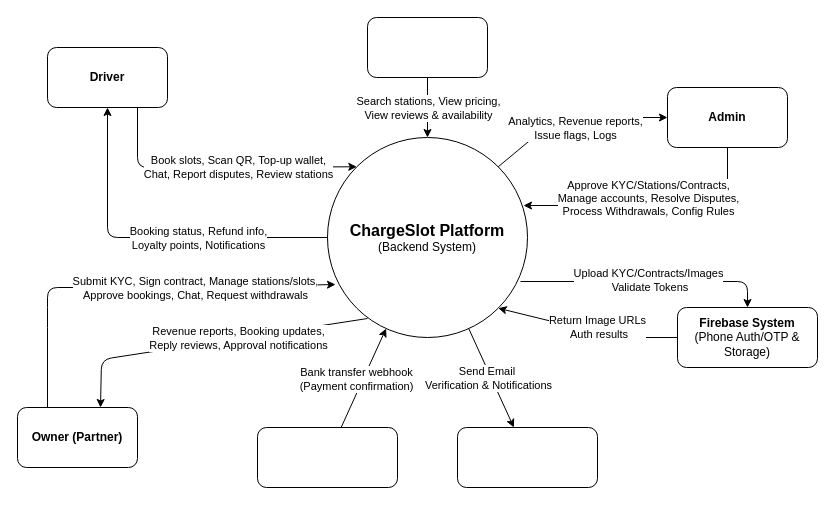
The diagram is 835 pixels wide and 505 high, and some of its shapes have lost their labels. Each missing label, with the centre of its shape:
Guest: (427,47)
SePay Gateway (Payment Webhook): (327,457)
SMTP Server (Email Delivery): (527,457)
